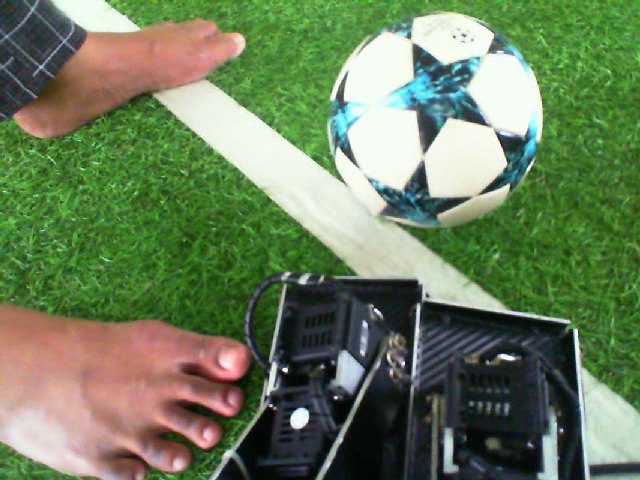ball: (320, 8, 550, 231)
